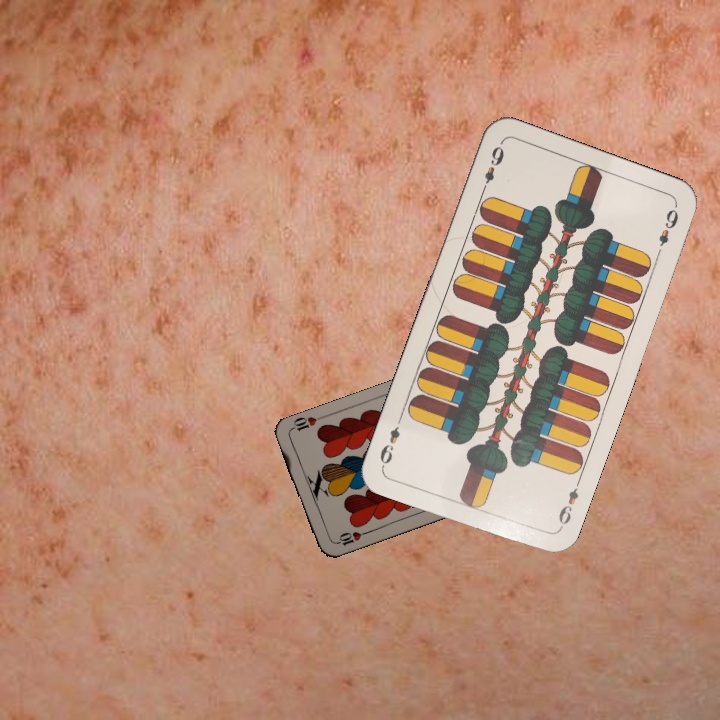E9: (554, 476, 583, 533), (477, 142, 507, 196)
H10: (330, 528, 370, 548)
